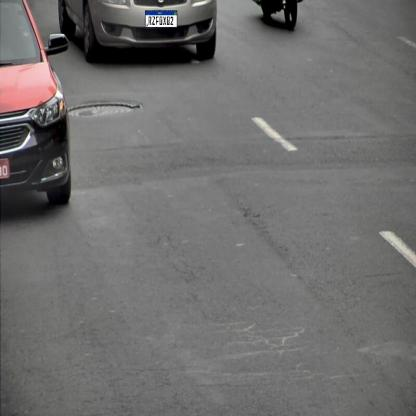PlacaM: (145, 10, 177, 28)
